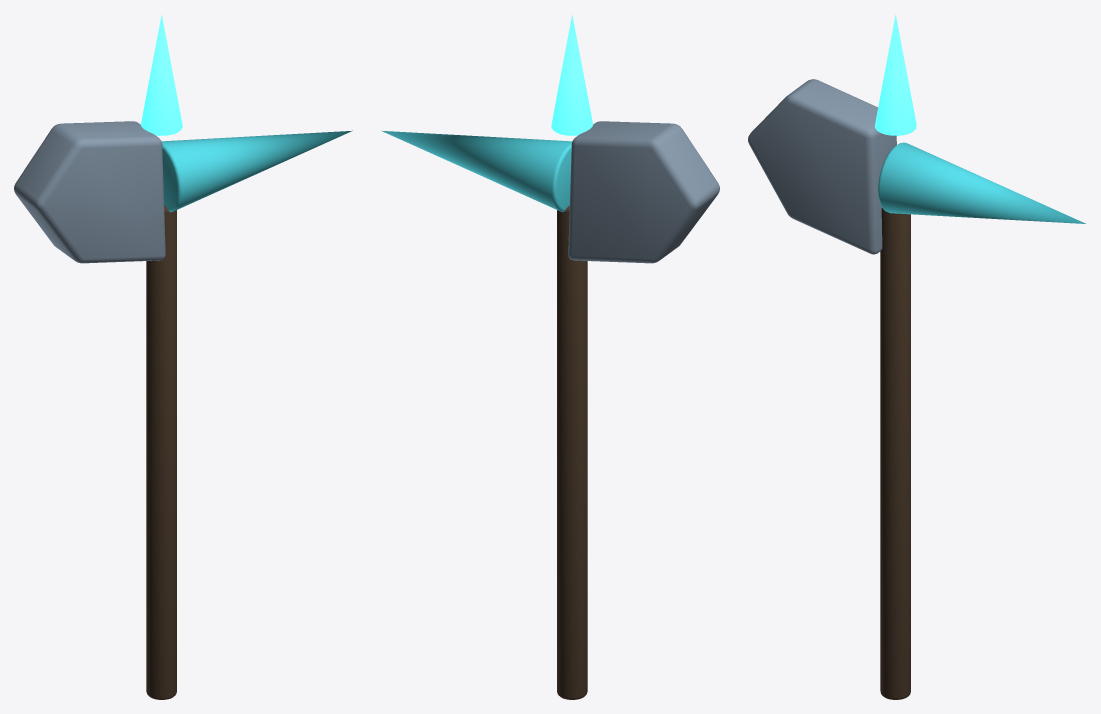
Rendered from axe_v5.glb.
3 views of the same model, side by side, from view 1: azimuth 30°, elevation 25°; view 2: azimuth 150°, elevation 25°; view 3: azimuth 330°, elevation 25° (orthographic).
Parts seen in each view (by area): view 1: POLEAXE_BLADE_PRIMARY, AXE_SHAFT_SECONDARY, POLEAXE_PICK_ACCENT, POLEAXE_SPIKE_EMISSIVE; view 2: POLEAXE_BLADE_PRIMARY, AXE_SHAFT_SECONDARY, POLEAXE_PICK_ACCENT, POLEAXE_SPIKE_EMISSIVE; view 3: POLEAXE_BLADE_PRIMARY, AXE_SHAFT_SECONDARY, POLEAXE_PICK_ACCENT, POLEAXE_SPIKE_EMISSIVE.
Part boxes in pixels (x1,y1,x2,y2): POLEAXE_BLADE_PRIMARY: [14, 121, 165, 263]; AXE_SHAFT_SECONDARY: [146, 206, 176, 699]; POLEAXE_PICK_ACCENT: [161, 130, 352, 212]; POLEAXE_SPIKE_EMISSIVE: [141, 15, 182, 135]; POLEAXE_BLADE_PRIMARY: [568, 121, 719, 263]; AXE_SHAFT_SECONDARY: [557, 206, 587, 699]; POLEAXE_PICK_ACCENT: [381, 130, 572, 212]; POLEAXE_SPIKE_EMISSIVE: [551, 15, 592, 135]; POLEAXE_BLADE_PRIMARY: [748, 79, 896, 254]; AXE_SHAFT_SECONDARY: [880, 207, 910, 699]; POLEAXE_PICK_ACCENT: [878, 142, 1085, 223]; POLEAXE_SPIKE_EMISSIVE: [875, 15, 916, 135].
Bounding box in the file's own units: 2.48 × 4.92 × 0.4722.
